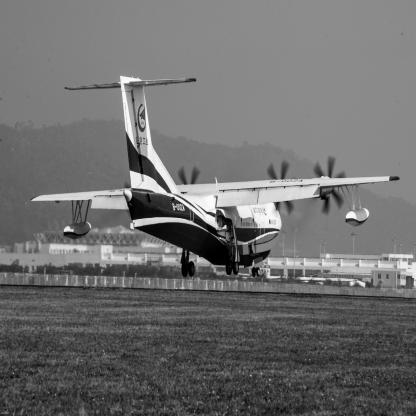AG600: (30, 76, 401, 279)
